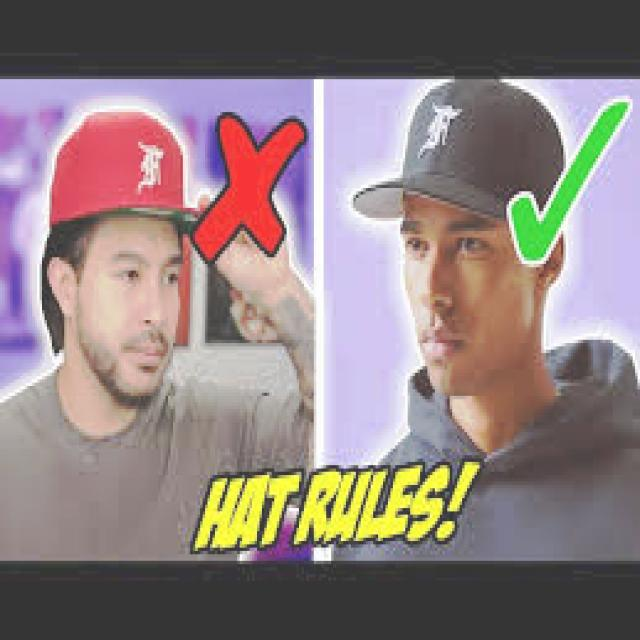TOPI: (348, 76, 574, 228), (42, 99, 210, 231)
